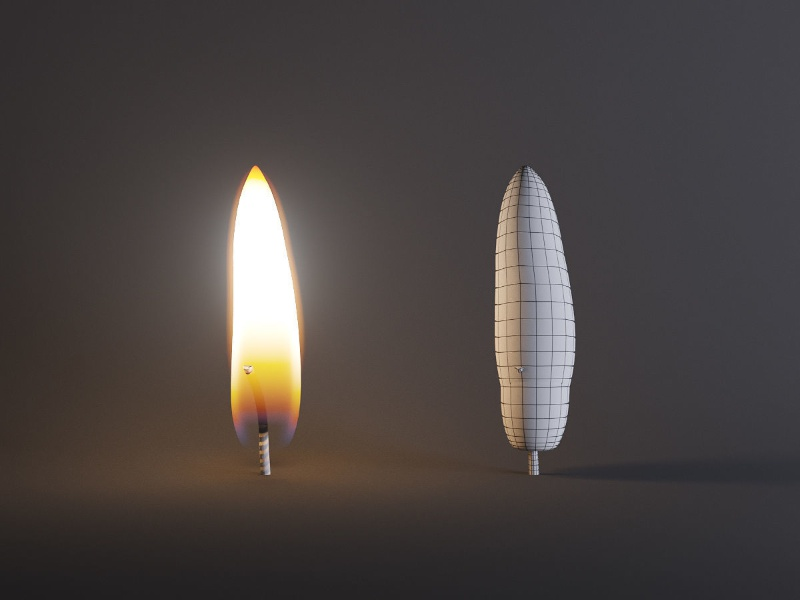fire: (233, 168, 304, 442)
